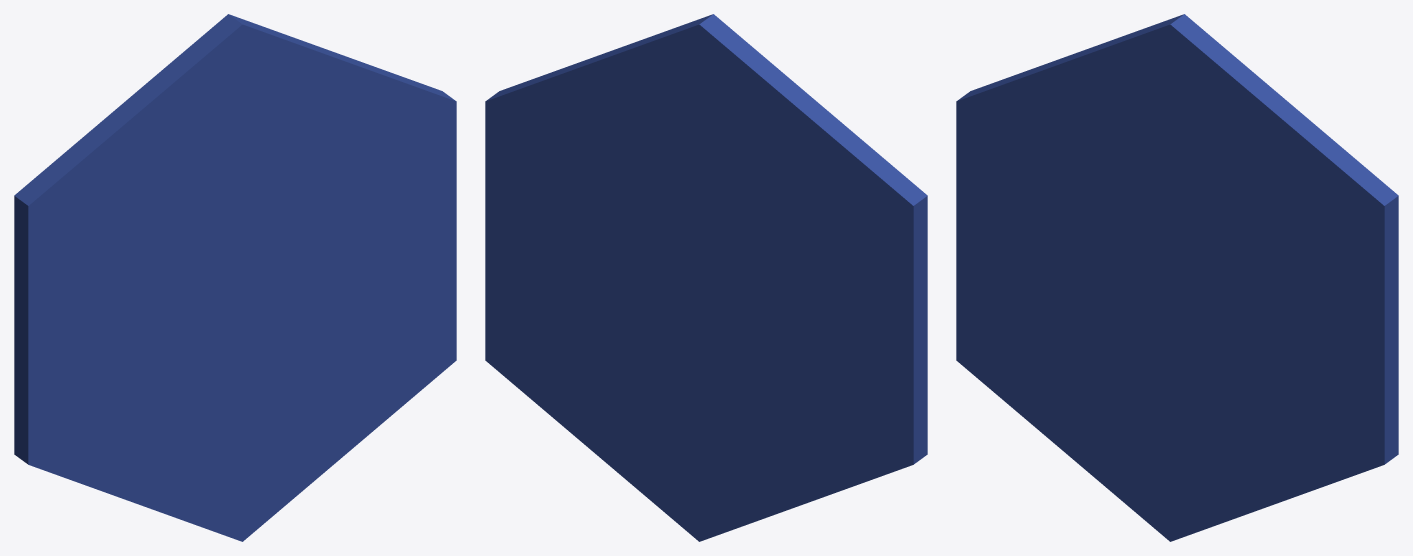
The model's file is tinker.obj.
3 views of the same model, side by side, from view 1: azimuth 30°, elevation 25°; view 2: azimuth 150°, elevation 25°; view 3: azimuth 330°, elevation 25° (orthographic).
Visible parts, largest first — view 1: obj_0; view 2: obj_0; view 3: obj_0.
Boxes of the visible parts, bbox=[...] form: obj_0: bbox=[14, 14, 456, 541]; obj_0: bbox=[485, 14, 927, 541]; obj_0: bbox=[956, 14, 1398, 541].
Size of the model in its own units: 17.32 by 20 by 1.
